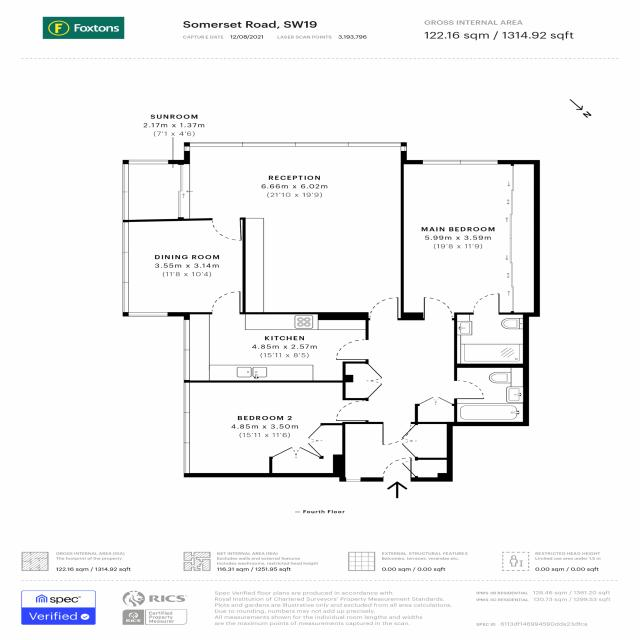DOOR: (382, 457, 412, 482), (381, 422, 412, 446), (211, 217, 242, 241), (335, 400, 369, 421), (335, 339, 369, 360), (368, 297, 399, 320), (211, 291, 241, 314), (423, 297, 453, 320), (454, 380, 485, 400), (472, 293, 500, 315)
ROOM: (121, 142, 407, 320), (400, 160, 540, 321), (183, 380, 369, 477), (184, 291, 369, 383), (123, 217, 246, 317)
WINDOW: (122, 222, 168, 317), (122, 159, 169, 220), (183, 142, 407, 151), (183, 382, 191, 474), (183, 319, 191, 381), (422, 160, 498, 165)
